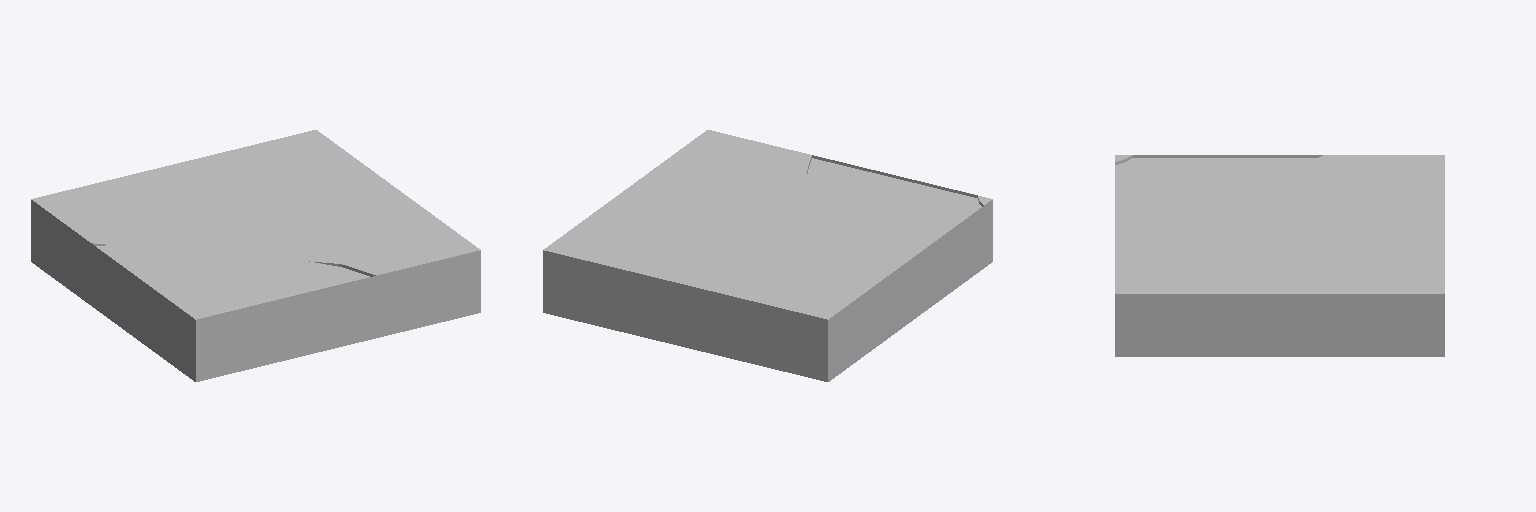
The model's file is roadTile_068.obj.
The picture shows the model from 3 angles: view 1: azimuth 30°, elevation 25°; view 2: azimuth 150°, elevation 25°; view 3: azimuth 270°, elevation 25°; orthographic projection.
Visible parts, largest first — view 1: Mesh1 Group1 Model; view 2: Mesh1 Group1 Model; view 3: Mesh1 Group1 Model.
Part boxes in pixels (x1,y1,x2,y2): Mesh1 Group1 Model: (31,130,480,381); Mesh1 Group1 Model: (543,130,992,381); Mesh1 Group1 Model: (1115,155,1444,356).
Size of the model in its own units: 3 by 0.63 by 3.